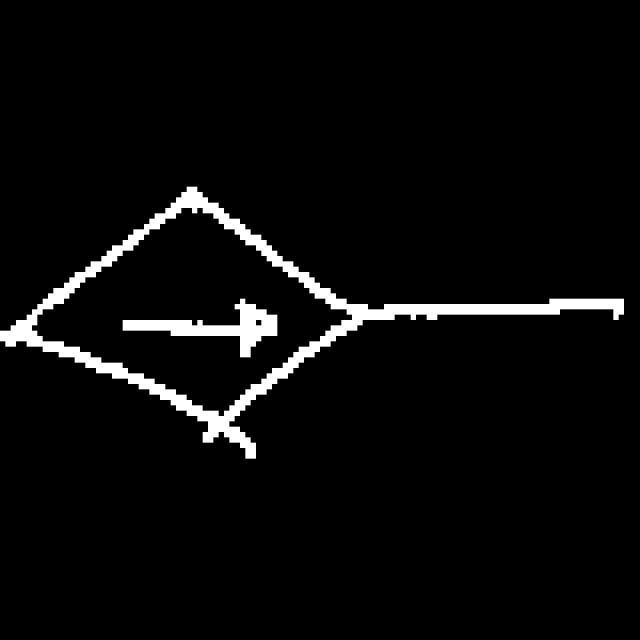dependant_current: (5, 172, 367, 470)
